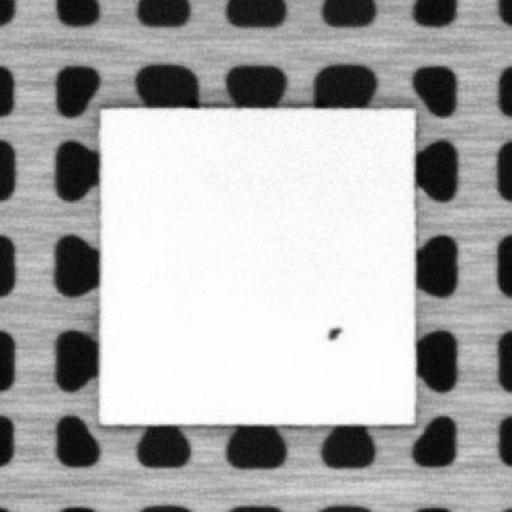DIE_INK: (322, 322, 343, 343)
